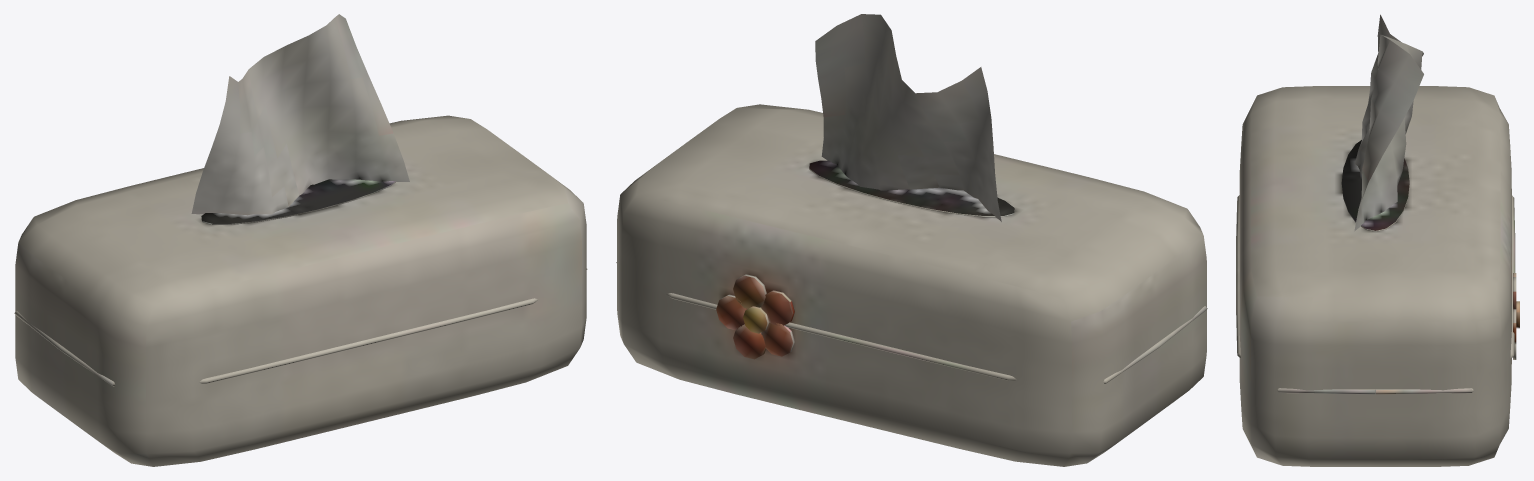
File: tissue_ivory.glb
3 views of the same model, side by side, from view 1: azimuth 30°, elevation 25°; view 2: azimuth 150°, elevation 25°; view 3: azimuth 270°, elevation 25° (orthographic). The views are drawn at different scales.
Visible parts, largest first — view 1: prop_tissue_ivory_felt; view 2: prop_tissue_ivory_felt; view 3: prop_tissue_ivory_felt.
Part boxes in pixels (box(x1,y1,x2,y2)): prop_tissue_ivory_felt: box(14, 14, 587, 466); prop_tissue_ivory_felt: box(616, 14, 1207, 466); prop_tissue_ivory_felt: box(1236, 14, 1519, 466).
Bounding box in the file's own units: 0.486 × 0.3394 × 0.25.
1 material, 1 textured.
